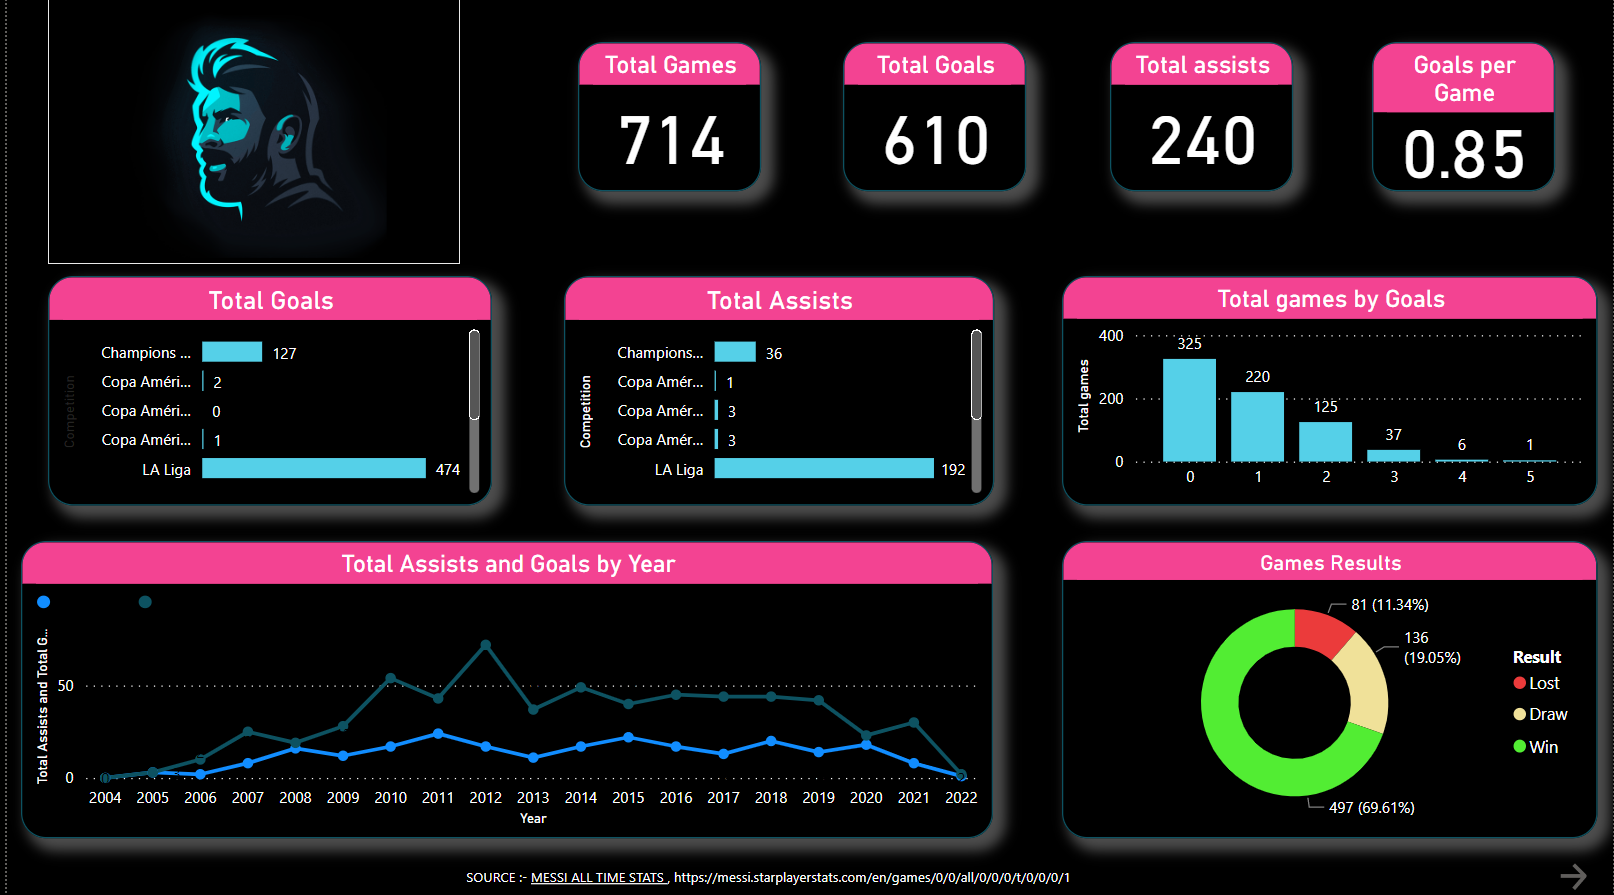

This screenshot's page, from the dashboard's own definition file:
{"tool":"powerbi","page":{"name":"Messi Stats","canvas":[1280,720],"ordinal":1},"visuals":[{"type":"clusteredBarChart","title":"Total Goals","fields":{"Y":["Table_Main.Total Goals"],"Category":["Competitions.Competition"]},"box":[33,226.1,354.1,182.7],"z":0},{"type":"lineChart","title":"Total Assists and  Goals by Year","fields":{"Y":["Table_Main.Total Assists","Table_Main.Total Goals"],"Category":["Calender.Year"]},"box":[11.4,437.7,775.2,237.4],"z":1000},{"type":"clusteredBarChart","title":"Total Assists","fields":{"Y":["Table_Main.Total Assists"],"Category":["Competitions.Competition"]},"box":[443.9,226.1,342.7,182.7],"z":2000},{"type":"card","title":"Goals per Game","fields":{"Values":["Table_Main.Goals per game"]},"box":[1088.3,39.8,146,119.4],"z":3000},{"type":"card","title":"Total assists","fields":{"Values":["Table_Main.Total Assists"]},"box":[879.3,39.8,146,119.4],"z":4000},{"type":"card","title":"Total Goals","fields":{"Values":["Table_Main.Total Goals"]},"box":[666.9,39.8,146,119.4],"z":5000},{"type":"card","title":"Total Games","fields":{"Values":["Table_Main.Total games"]},"box":[455.7,39.8,146,119.4],"z":6000},{"type":"donutChart","title":"Games Results","fields":{"Category":["Table_Main.Result"],"Y":["Table_Main.Total games"]},"box":[841.3,437.7,427.4,237.4],"z":7000},{"type":"clusteredColumnChart","fields":{"Y":["Table_Main.Total games"],"Category":["Table_Main.Goals"]},"box":[841.3,226.1,427.4,182.7],"z":8000},{"type":"image","box":[33,0,328.3,216.8],"z":9000},{"type":"textbox","box":[361.3,690.6,822.7,29.9],"z":10000},{"type":"actionButton","box":[1233.5,690.6,46.5,29.9],"z":10001}]}

Visuals, with their boxes in screenshot pixels (x1, y1, x2, y2), scaled from the page's 1280x720 canvas onto the 1614x895 screenshot:
"Total Goals" clusteredBarChart: {"left": 42, "top": 281, "right": 488, "bottom": 508}
"Total Assists and  Goals by Year" lineChart: {"left": 14, "top": 544, "right": 992, "bottom": 839}
"Total Assists" clusteredBarChart: {"left": 560, "top": 281, "right": 992, "bottom": 508}
"Goals per Game" card: {"left": 1372, "top": 49, "right": 1556, "bottom": 198}
"Total assists" card: {"left": 1109, "top": 49, "right": 1293, "bottom": 198}
"Total Goals" card: {"left": 841, "top": 49, "right": 1025, "bottom": 198}
"Total Games" card: {"left": 575, "top": 49, "right": 759, "bottom": 198}
"Games Results" donutChart: {"left": 1061, "top": 544, "right": 1600, "bottom": 839}
clusteredColumnChart - Table_Main.Total games x Table_Main.Goals: {"left": 1061, "top": 281, "right": 1600, "bottom": 508}
image: {"left": 42, "top": 0, "right": 456, "bottom": 269}
textbox: {"left": 456, "top": 858, "right": 1493, "bottom": 894}
actionButton: {"left": 1555, "top": 858, "right": 1613, "bottom": 894}
